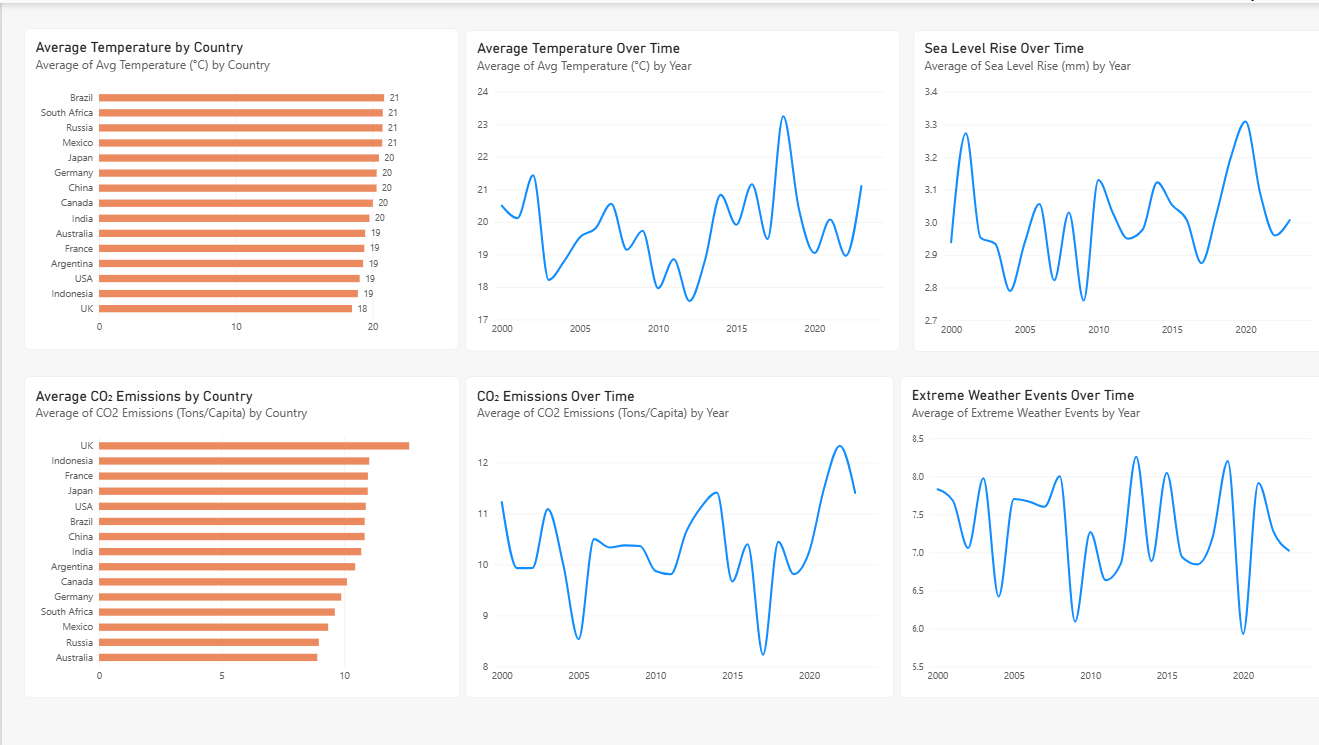

The dashboard page shown, as its layout file describes it:
{"tool":"powerbi","page":{"name":"Page 1","canvas":[1920,1080],"ordinal":0},"visuals":[{"type":"clusteredBarChart","title":"Average Temperature by Country","fields":{"Category":["climate_analysis climate_change.Country"],"Y":["Avg(climate_analysis climate_change.Avg Temperature (Â°C))"]},"box":[31.9,36.9,629.1,464.5],"z":0},{"type":"lineChart","title":"Average Temperature Over Time","fields":{"Category":["climate_analysis climate_change.Year"],"Y":["Avg(climate_analysis climate_change.Avg Temperature (Â°C))"]},"box":[670.9,39.3,629.1,464.5],"z":1},{"type":"lineChart","title":"CO₂ Emissions Over Time","fields":{"Category":["climate_analysis climate_change.Year"],"Y":["Avg(climate_analysis climate_change.CO2 Emissions (Tons/Capita))"]},"box":[672.1,539.9,619.8,465.5],"z":2},{"type":"lineChart","title":"Extreme Weather Events Over Time","fields":{"Category":["climate_analysis climate_change.Year"],"Y":["Avg(climate_analysis climate_change.Extreme Weather Events)"]},"box":[1300.1,539.9,619.8,465.5],"z":3},{"type":"lineChart","title":"Sea Level Rise Over Time","fields":{"Category":["climate_analysis climate_change.Year"],"Y":["Avg(climate_analysis climate_change.Sea Level Rise (mm))"]},"box":[1319.4,38.6,600.5,465.5],"z":5},{"type":"barChart","title":"Average CO₂ Emissions by Country","fields":{"Category":["climate_analysis climate_change.Country"],"Y":["Avg(climate_analysis climate_change.CO2 Emissions (Tons/Capita))"]},"box":[33.1,539.9,630.8,465.5],"z":6}]}

Visuals, with their boxes in screenshot pixels (x1, y1, x2, y2), scaled from the page's 1920x1080 canvas onto the 1319x745 screenshot:
"Average Temperature by Country" clusteredBarChart: box(22, 25, 454, 346)
"Average Temperature Over Time" lineChart: box(461, 27, 893, 348)
"CO₂ Emissions Over Time" lineChart: box(462, 372, 888, 694)
"Extreme Weather Events Over Time" lineChart: box(893, 372, 1318, 694)
"Sea Level Rise Over Time" lineChart: box(906, 27, 1318, 348)
"Average CO₂ Emissions by Country" barChart: box(23, 372, 456, 694)
